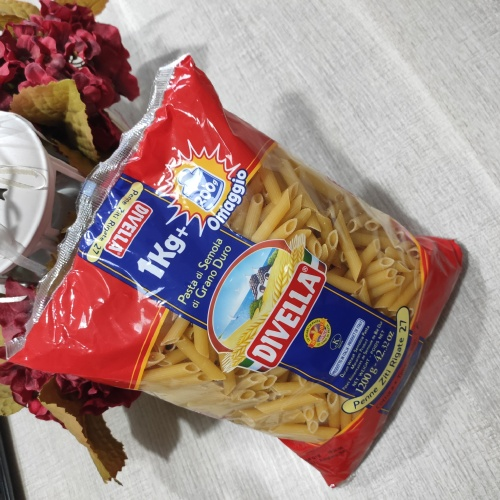pasta: (80, 116, 428, 466)
